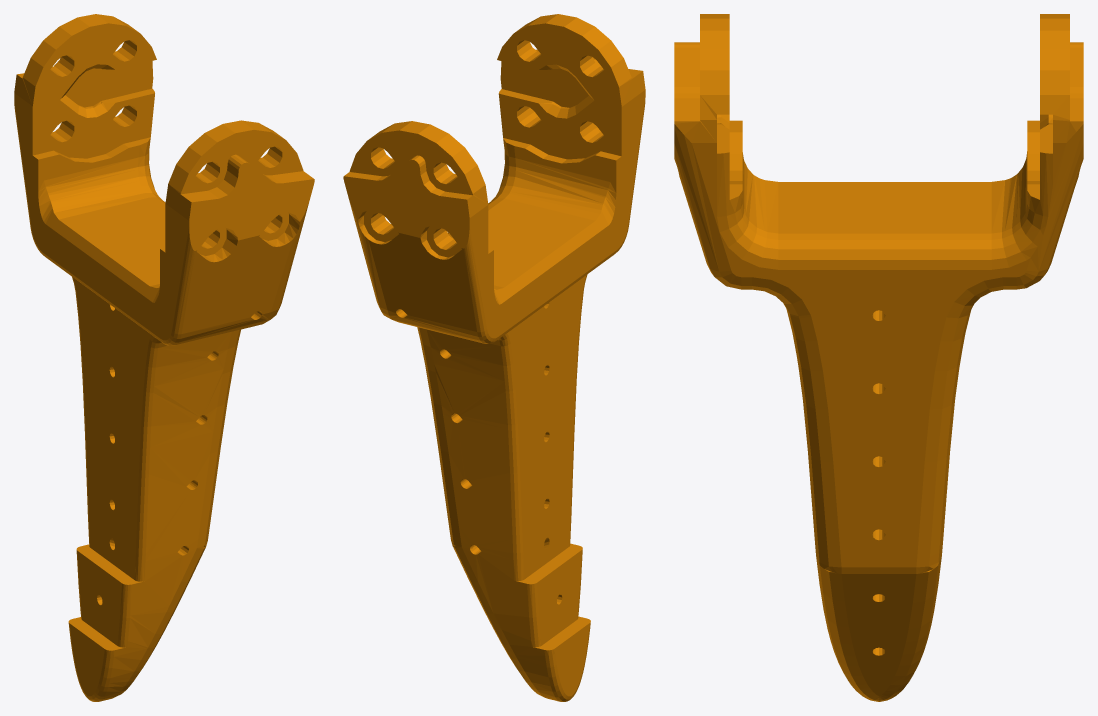
File: Moving_Jaw.glb
3 views of the same model, side by side, from view 1: azimuth 30°, elevation 25°; view 2: azimuth 150°, elevation 25°; view 3: azimuth 270°, elevation 25° (orthographic). The views are drawn at different scales.
Parts seen in each view (by area): view 1: Moving_Jaw_0; view 2: Moving_Jaw_0; view 3: Moving_Jaw_0.
Boxes of the visible parts, x1,y1,x2,y2 form: Moving_Jaw_0: (14,14,314,701); Moving_Jaw_0: (343,14,645,701); Moving_Jaw_0: (674,14,1083,701).
Bounding box in the file's own units: 0.0223 × 0.092 × 0.048.
